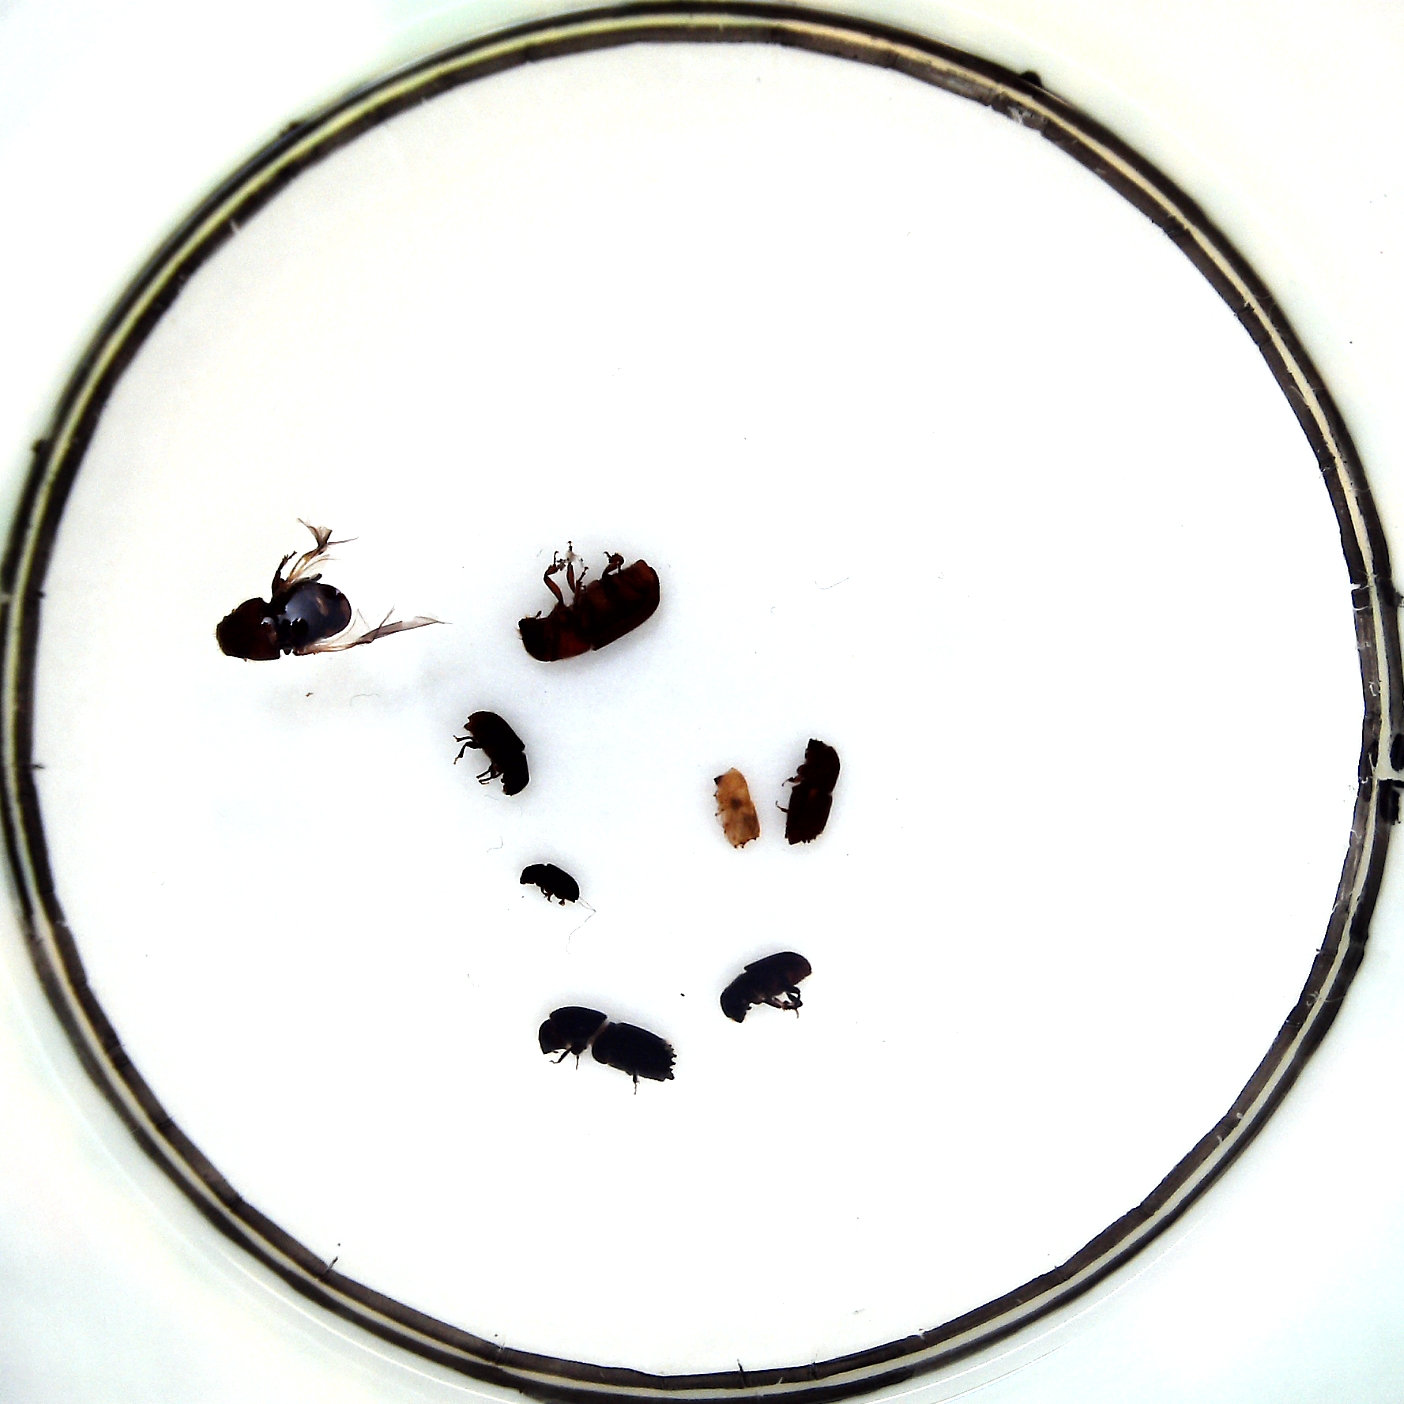Boerner: (537, 1005, 678, 1085)
Leconte: (518, 559, 660, 662), (216, 573, 354, 661)
acuminatus: (518, 861, 581, 906)
armandi: (720, 951, 813, 1023), (465, 710, 530, 797)
coleoptera: (714, 768, 762, 849)
linnaeus: (784, 739, 841, 847)
